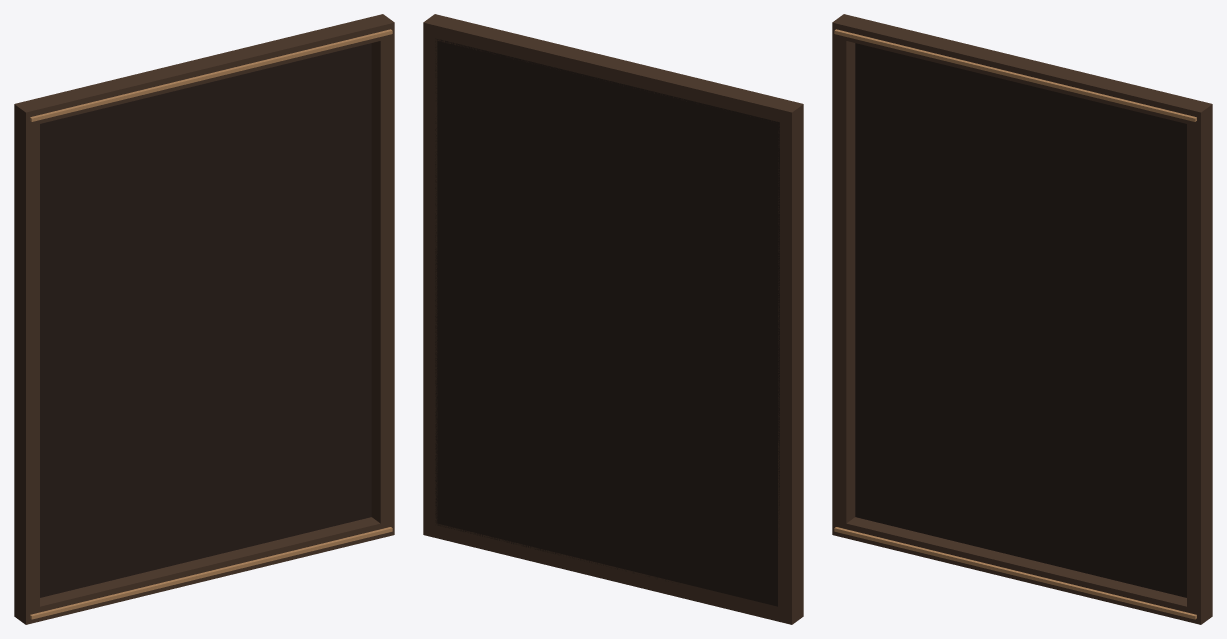
File: portrait_strahd.glb
3 views of the same model, side by side, from view 1: azimuth 30°, elevation 25°; view 2: azimuth 150°, elevation 25°; view 3: azimuth 330°, elevation 25° (orthographic).
Visible parts, largest first — view 1: portrait_strahd; view 2: portrait_strahd; view 3: portrait_strahd.
Part boxes in pixels (box(x1,y1,x2,y2)): portrait_strahd: box(14, 14, 394, 624); portrait_strahd: box(423, 14, 803, 624); portrait_strahd: box(832, 14, 1212, 624).
Size of the model in its own units: 0.91 by 1.21 by 0.058.
